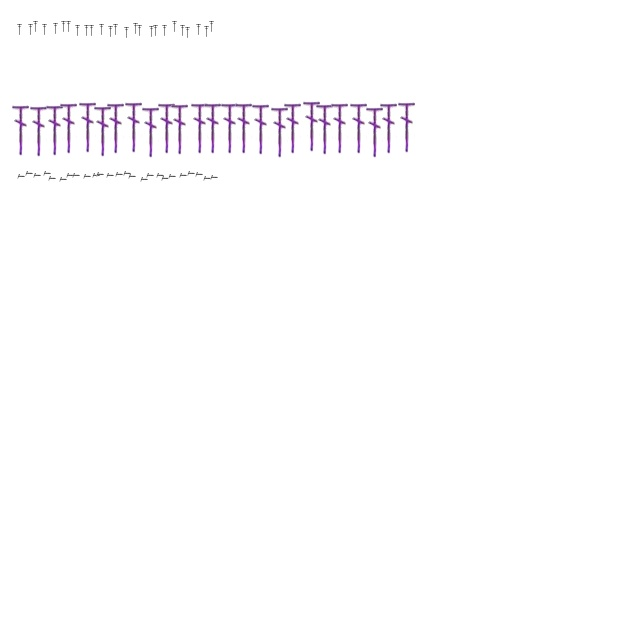double treble: (30, 104, 48, 158), (94, 104, 112, 158), (252, 102, 270, 156), (316, 102, 334, 156), (398, 100, 416, 154), (12, 104, 30, 156), (46, 104, 64, 156), (60, 102, 78, 154), (142, 106, 160, 158), (158, 102, 176, 154), (204, 102, 222, 154), (284, 102, 302, 154), (350, 102, 368, 154), (366, 106, 384, 158), (380, 102, 398, 154), (80, 100, 96, 154), (126, 100, 142, 154), (172, 102, 188, 156), (108, 102, 124, 154), (192, 102, 208, 154), (222, 102, 238, 154), (236, 102, 252, 154), (272, 106, 288, 158), (304, 100, 320, 152), (332, 102, 348, 154), (28, 24, 34, 36), (42, 24, 48, 36), (108, 26, 114, 38), (196, 24, 202, 36), (204, 26, 210, 38), (66, 22, 72, 32), (84, 26, 90, 36), (124, 28, 130, 38), (162, 26, 168, 36), (172, 22, 178, 32), (180, 26, 186, 36), (18, 24, 22, 36), (100, 24, 104, 36), (114, 24, 118, 36), (150, 26, 154, 38), (34, 22, 38, 32), (54, 24, 58, 34), (62, 22, 66, 32), (76, 26, 80, 36), (90, 26, 94, 36), (134, 24, 138, 34), (138, 26, 142, 36), (154, 26, 158, 36), (186, 28, 190, 38), (210, 22, 214, 32)
enseble_chain: (17, 174, 25, 180), (48, 176, 56, 182), (83, 174, 91, 180), (96, 172, 104, 178), (115, 172, 123, 178), (128, 174, 136, 180), (161, 176, 169, 182), (168, 174, 176, 180), (195, 172, 203, 178), (203, 176, 211, 182), (25, 172, 33, 176), (33, 174, 41, 178), (43, 172, 51, 176), (59, 178, 67, 182), (66, 174, 74, 178), (72, 174, 80, 178), (92, 174, 100, 178), (106, 174, 114, 178), (123, 172, 131, 176), (140, 178, 148, 182), (146, 174, 154, 178), (156, 174, 164, 178), (179, 174, 187, 178), (187, 172, 195, 176), (210, 176, 218, 180)
